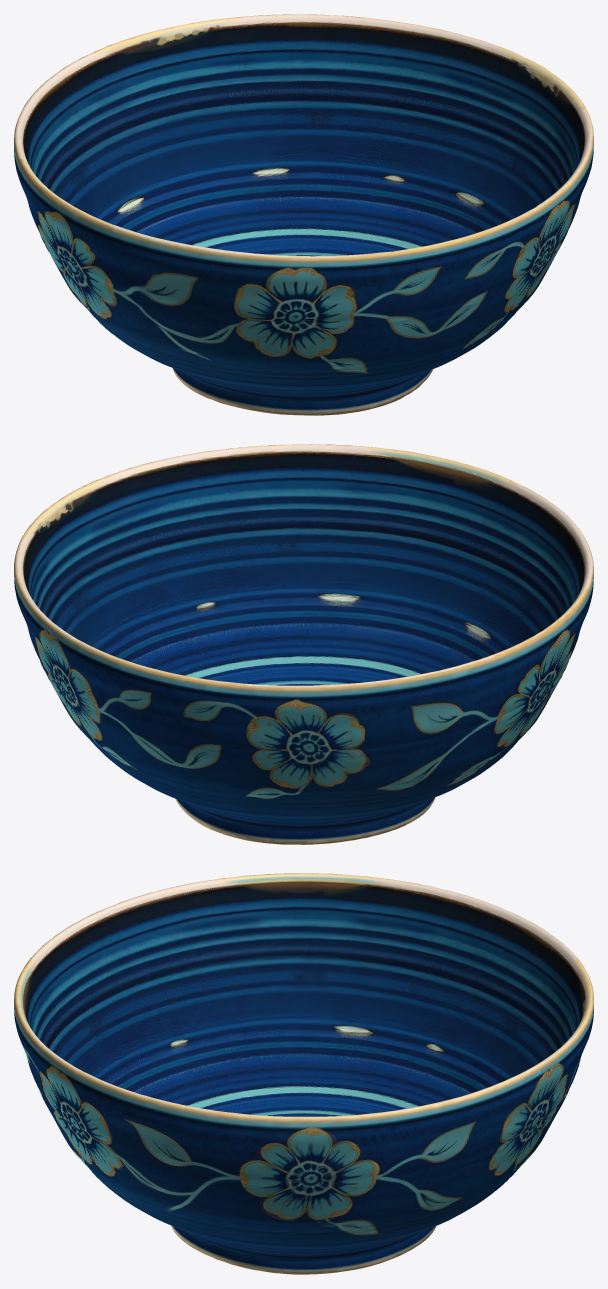
The model's file is cousin_6.glb.
The picture shows the model from 3 angles, top to bottom: view 1: azimuth 30°, elevation 25°; view 2: azimuth 150°, elevation 25°; view 3: azimuth 270°, elevation 25°; orthographic projection.
Bounding box in the file's own units: 1.91 × 0.8189 × 1.91.
1 material, 1 textured.
